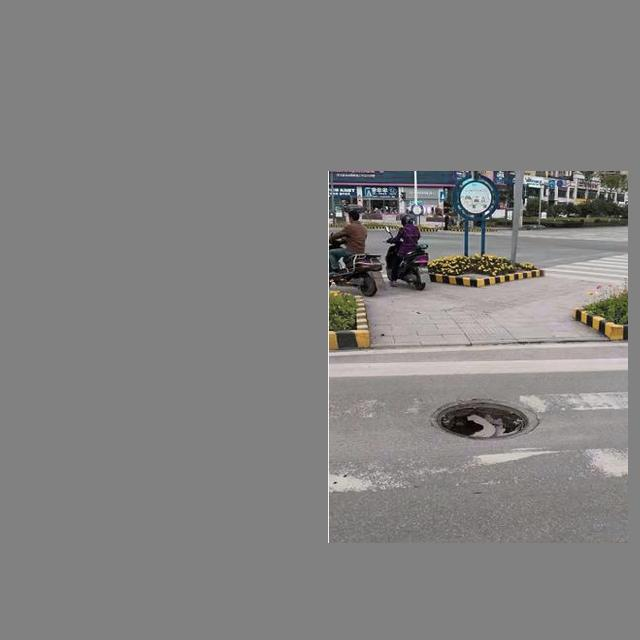broke: (423, 384, 550, 452)
